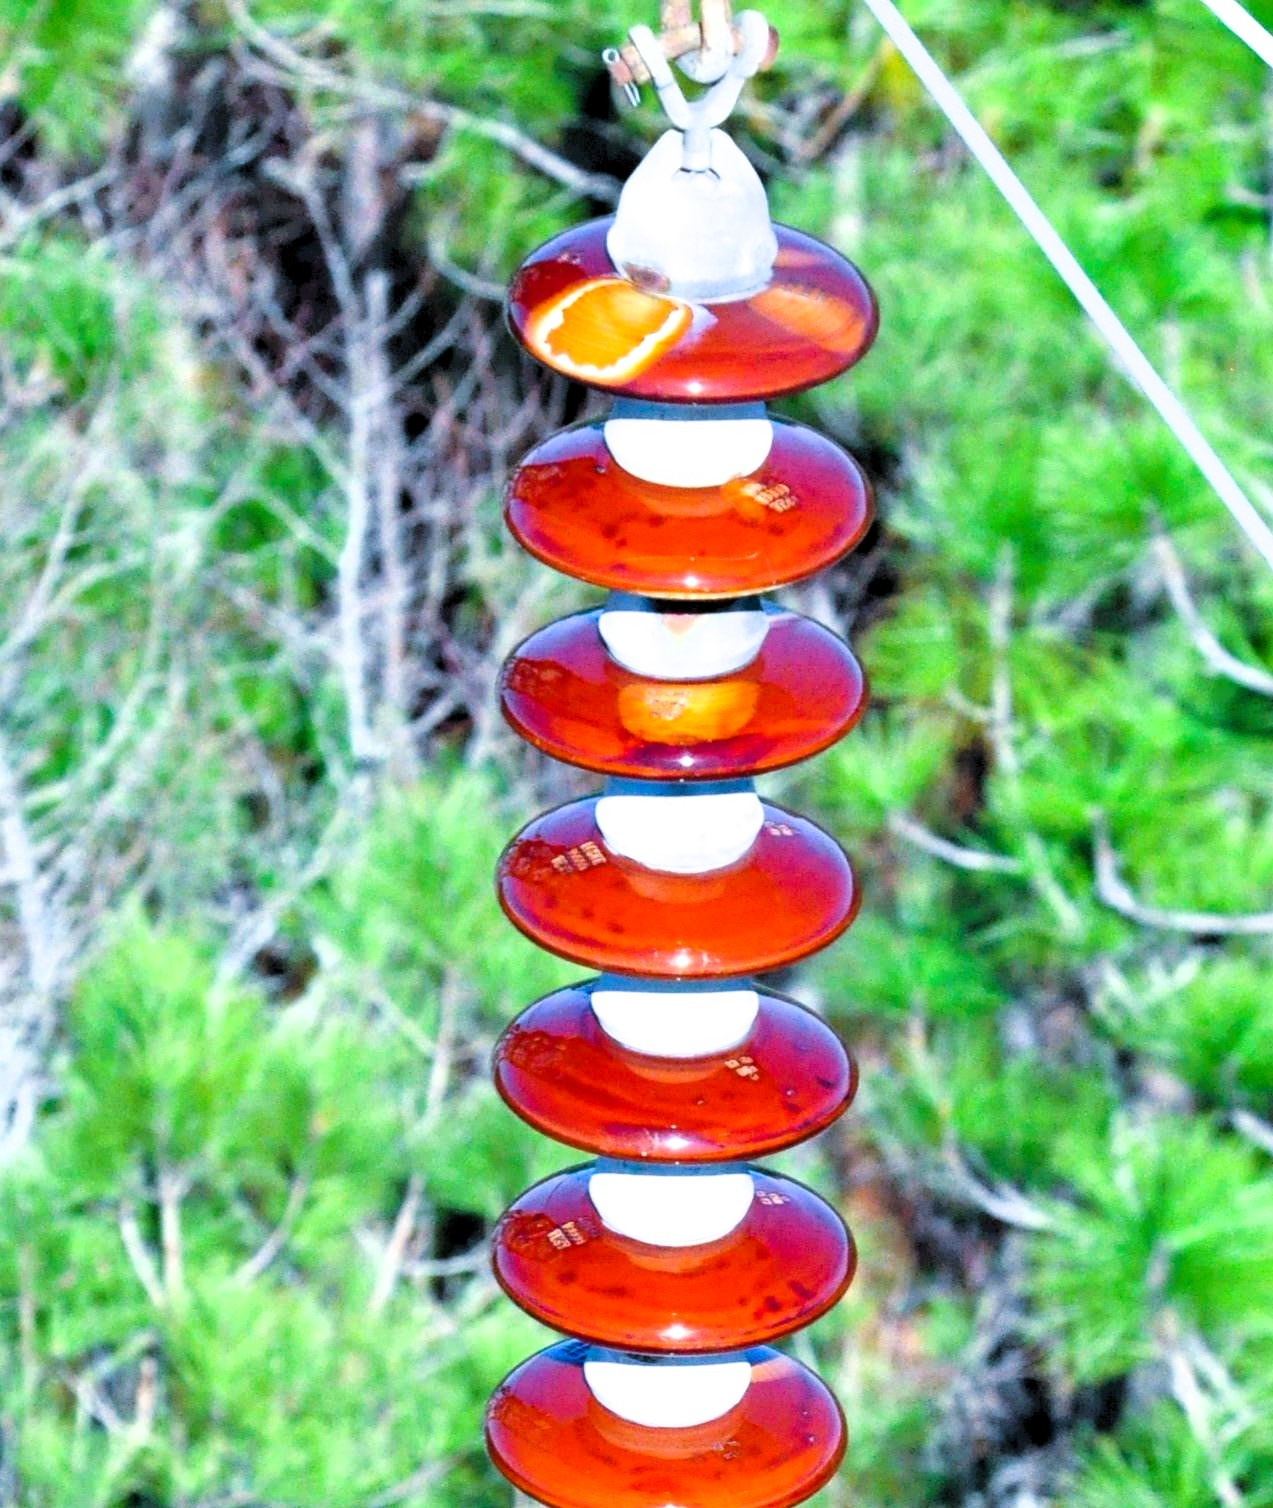Insulator flashover: (498, 205, 889, 412), (482, 594, 875, 797)
